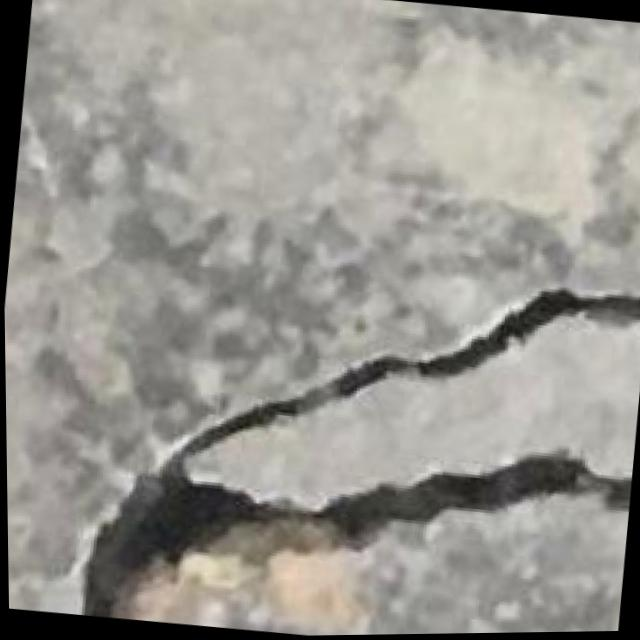Crack: (3, 231, 633, 640), (4, 375, 627, 603)
